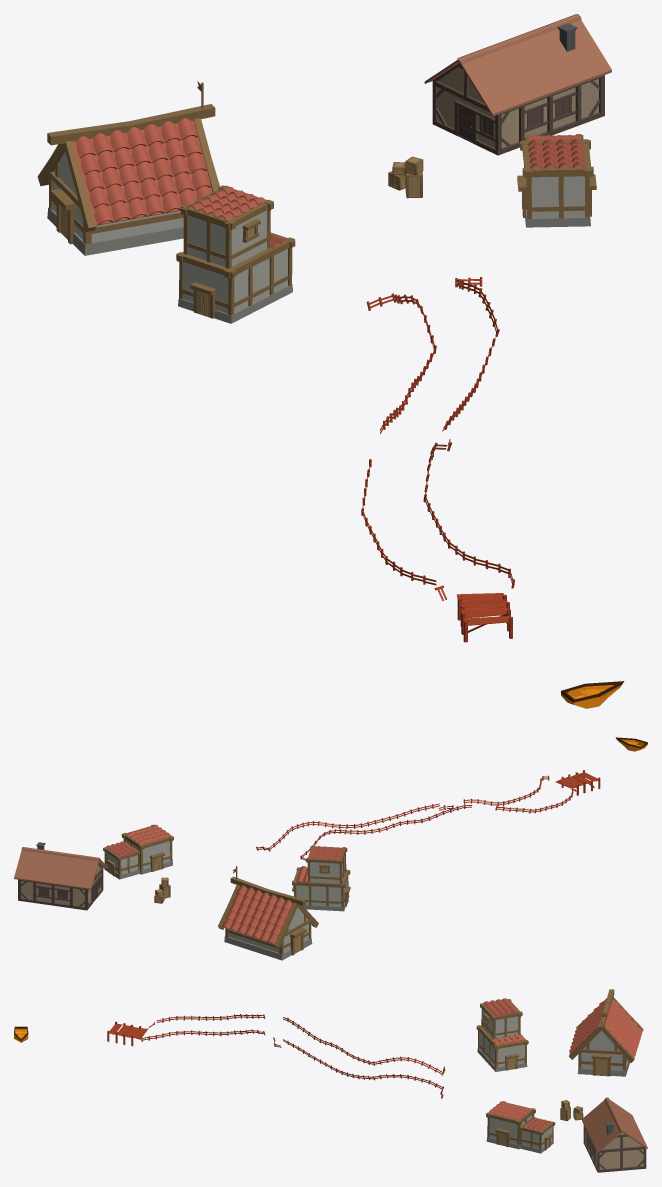
3 views of the same model, one above another, from view 1: azimuth 30°, elevation 25°; view 2: azimuth 150°, elevation 25°; view 3: azimuth 270°, elevation 25° (orthographic). The views are drawn at different scales.
Parts seen in each view (by area): view 1: Houses_SecondAge_1_Level2, Cottage, Houses_SecondAge_3_Level3, Houses_SecondAge_3_Level3.001, Houses_SecondAge_1_Level2.001, Cube.022; view 2: Houses_SecondAge_1_Level2, Cottage, Houses_SecondAge_3_Level3, Houses_SecondAge_3_Level3.001; view 3: Houses_SecondAge_1_Level2, Cottage, Houses_SecondAge_3_Level3, Houses_SecondAge_3_Level3.001, Houses_SecondAge_1_Level2.001.
Part boxes in pixels (bbox=[...]): Houses_SecondAge_1_Level2: bbox=[37, 81, 219, 255]; Cottage: bbox=[424, 14, 611, 155]; Houses_SecondAge_3_Level3: bbox=[176, 185, 295, 323]; Houses_SecondAge_3_Level3.001: bbox=[517, 134, 596, 227]; Houses_SecondAge_1_Level2.001: bbox=[388, 156, 423, 198]; Cube.022: bbox=[561, 681, 624, 708]; Houses_SecondAge_1_Level2: bbox=[217, 866, 318, 960]; Cottage: bbox=[14, 842, 108, 910]; Houses_SecondAge_3_Level3: bbox=[292, 845, 350, 911]; Houses_SecondAge_3_Level3.001: bbox=[103, 824, 173, 879]; Houses_SecondAge_1_Level2: bbox=[569, 989, 643, 1076]; Cottage: bbox=[582, 1097, 647, 1172]; Houses_SecondAge_3_Level3: bbox=[476, 998, 528, 1071]; Houses_SecondAge_3_Level3.001: bbox=[486, 1101, 555, 1153]; Houses_SecondAge_1_Level2.001: bbox=[560, 1100, 583, 1121].
Bounding box in the file's own units: 157 × 35.33 × 272.
Materials: 15 (1 with a texture image).
